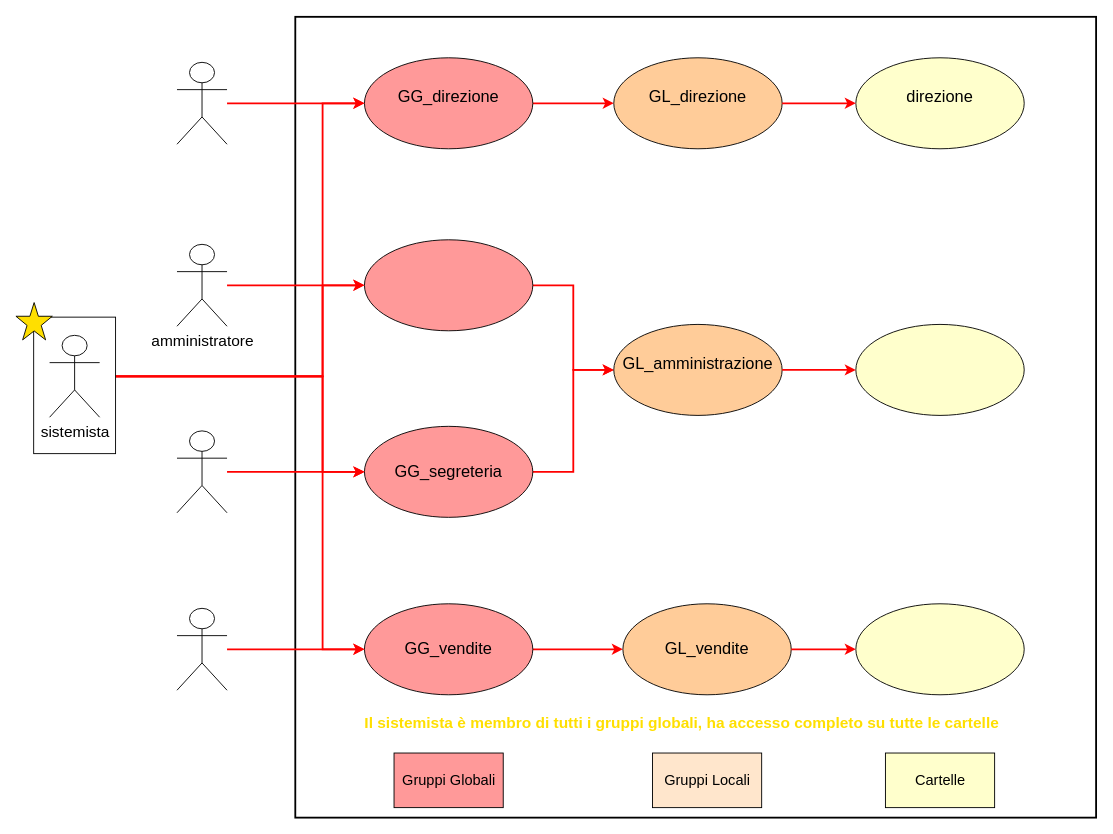
This 1113x834 diagram has some shape labels left out. Here are the shapes that lost their labels. From the top down, the centre of each, then its label:
the point at 201,102: Direttore
the point at 448,285: GG_amministrazione
the point at 939,369: amministrazione
the point at 201,471: segretaria
the point at 201,648: venditore
the point at 939,649: vendite
